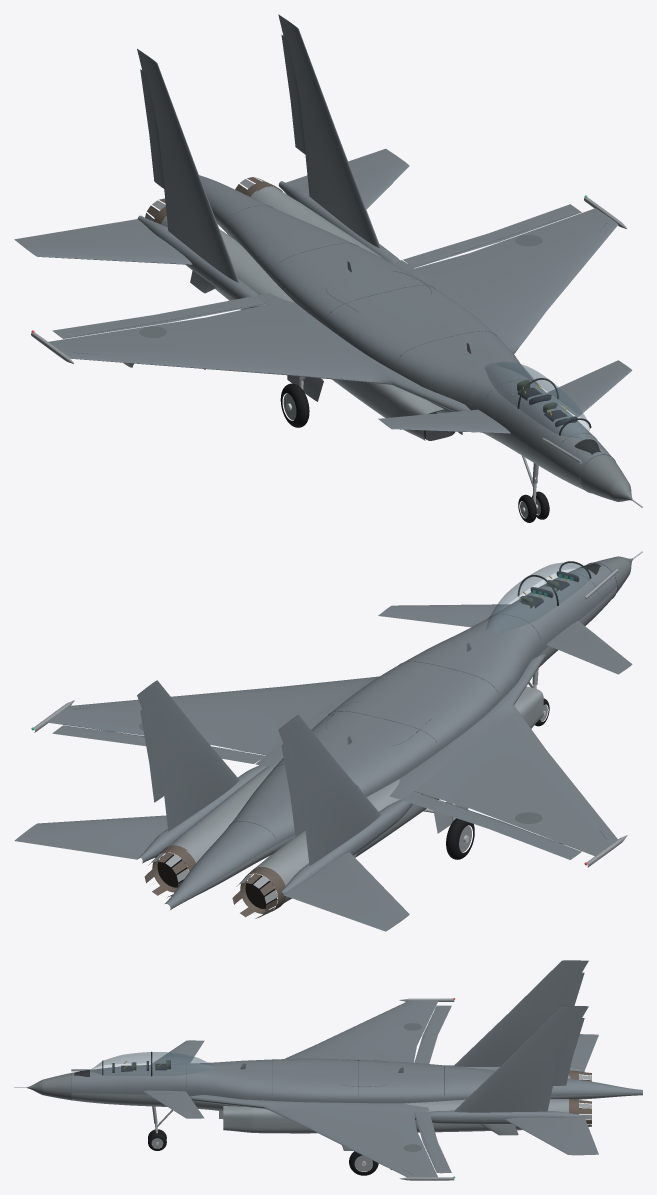
File: heavy-fighter-visual.glb
The picture shows the model from 3 angles, top to bottom: view 1: azimuth 30°, elevation 25°; view 2: azimuth 150°, elevation 25°; view 3: azimuth 270°, elevation 25°; orthographic projection. The views are drawn at different scales.
Parts seen in each view (by area): view 1: Continuous shaped fuselage, Main wing -1, Main wing 1, Vertical fin 1, Vertical fin -1, All-moving stabilator -1, Cockpit glazed canopy, Engine nacelle -1, Flaperon -1, All-moving stabilator 1, Flaperon 1, Canard foreplane 1 (+9 smaller); view 2: Continuous shaped fuselage, Main wing -1, Main wing 1, Vertical fin -1, Vertical fin 1, All-moving stabilator -1, All-moving stabilator 1, Cockpit glazed canopy, Engine nacelle -1, Engine nacelle 1, Flaperon -1, Tail boom -1 (+11 smaller); view 3: Continuous shaped fuselage, Main wing 1, Vertical fin 1, Main wing -1, Vertical fin -1, Engine nacelle 1, Cockpit glazed canopy, All-moving stabilator 1, Fuselage lower skin, Tail boom 1, Flaperon 1, Rudder 1 (+7 smaller).
Part boxes in pixels (x1=…): Continuous shaped fuselage: x1=199, y1=175, x2=611, y2=478; Main wing -1: x1=48, y1=293, x2=470, y2=411; Main wing 1: x1=392, y1=208, x2=618, y2=353; Vertical fin 1: x1=278, y1=14, x2=380, y2=248; Vertical fin -1: x1=137, y1=49, x2=239, y2=282; All-moving stabilator -1: x1=14, y1=219, x2=192, y2=264; Cockpit glazed canopy: x1=485, y1=361, x2=589, y2=438; Engine nacelle -1: x1=161, y1=216, x2=443, y2=440; Flaperon -1: x1=52, y1=296, x2=265, y2=338; All-moving stabilator 1: x1=286, y1=148, x2=409, y2=209; Flaperon 1: x1=403, y1=204, x2=581, y2=267; Canard foreplane 1: x1=547, y1=360, x2=632, y2=416; Continuous shaped fuselage: x1=165, y1=563, x2=616, y2=908; Main wing -1: x1=389, y1=654, x2=617, y2=855; Main wing 1: x1=47, y1=676, x2=379, y2=766; Vertical fin -1: x1=278, y1=714, x2=380, y2=865; Vertical fin 1: x1=137, y1=680, x2=239, y2=831; All-moving stabilator -1: x1=284, y1=852, x2=409, y2=931; All-moving stabilator 1: x1=14, y1=815, x2=167, y2=859; Cockpit glazed canopy: x1=486, y1=562, x2=589, y2=634; Engine nacelle -1: x1=253, y1=686, x2=543, y2=903; Engine nacelle 1: x1=170, y1=759, x2=281, y2=862; Flaperon -1: x1=403, y1=792, x2=581, y2=859; Tail boom -1: x1=280, y1=792, x2=421, y2=897; Continuous shaped fuselage: x1=71, y1=1058, x2=642, y2=1103; Main wing 1: x1=190, y1=1094, x2=437, y2=1177; Vertical fin 1: x1=454, y1=1006, x2=588, y2=1112; Main wing -1: x1=285, y1=1000, x2=438, y2=1062; Vertical fin -1: x1=454, y1=960, x2=588, y2=1066; Engine nacelle 1: x1=223, y1=1099, x2=568, y2=1133; Cockpit glazed canopy: x1=90, y1=1052, x2=214, y2=1075; All-moving stabilator 1: x1=505, y1=1117, x2=598, y2=1155; Fuselage lower skin: x1=71, y1=1092, x2=642, y2=1111; Tail boom 1: x1=414, y1=1110, x2=584, y2=1123; Flaperon 1: x1=414, y1=1112, x2=451, y2=1173; Rudder 1: x1=552, y1=1018, x2=584, y2=1085.
Bounding box in the file's own units: 14.83 × 6.36 × 21.93.
